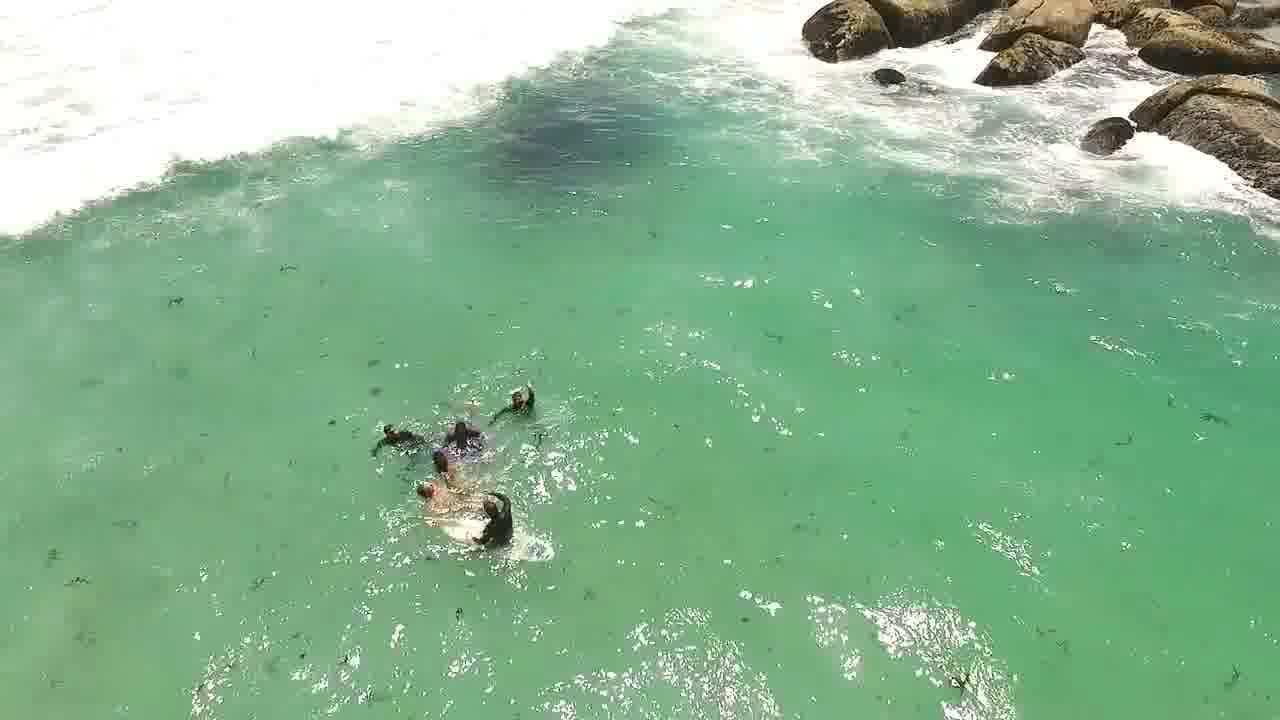human: (473, 489, 517, 541), (500, 371, 542, 421), (369, 405, 410, 443), (446, 407, 480, 441), (401, 473, 435, 504), (427, 443, 451, 467)
